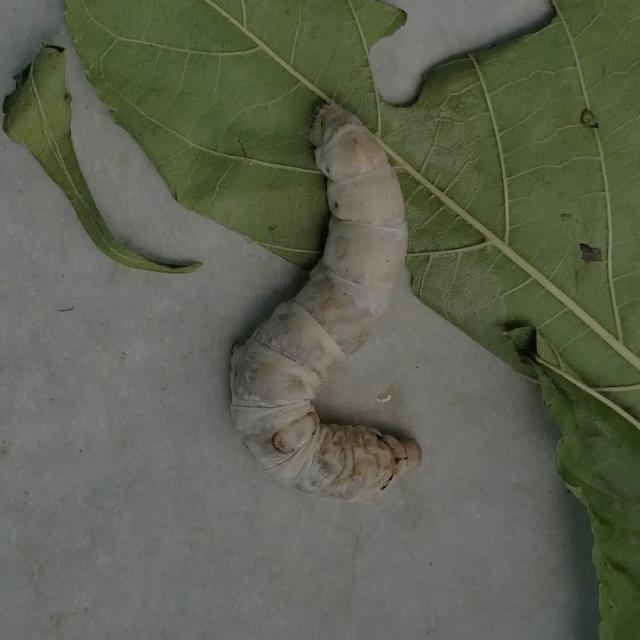Grasserie: (206, 65, 458, 542)
